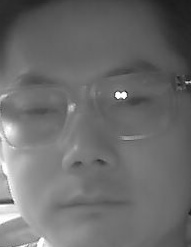blink: (18, 101, 59, 123)
glass: (89, 70, 179, 140), (1, 82, 75, 149)
mouth: (51, 183, 128, 222)
